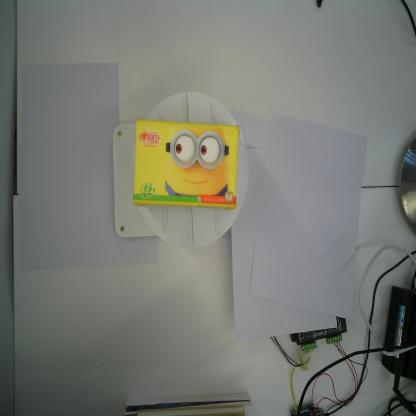Tissue: (132, 116, 241, 211)
